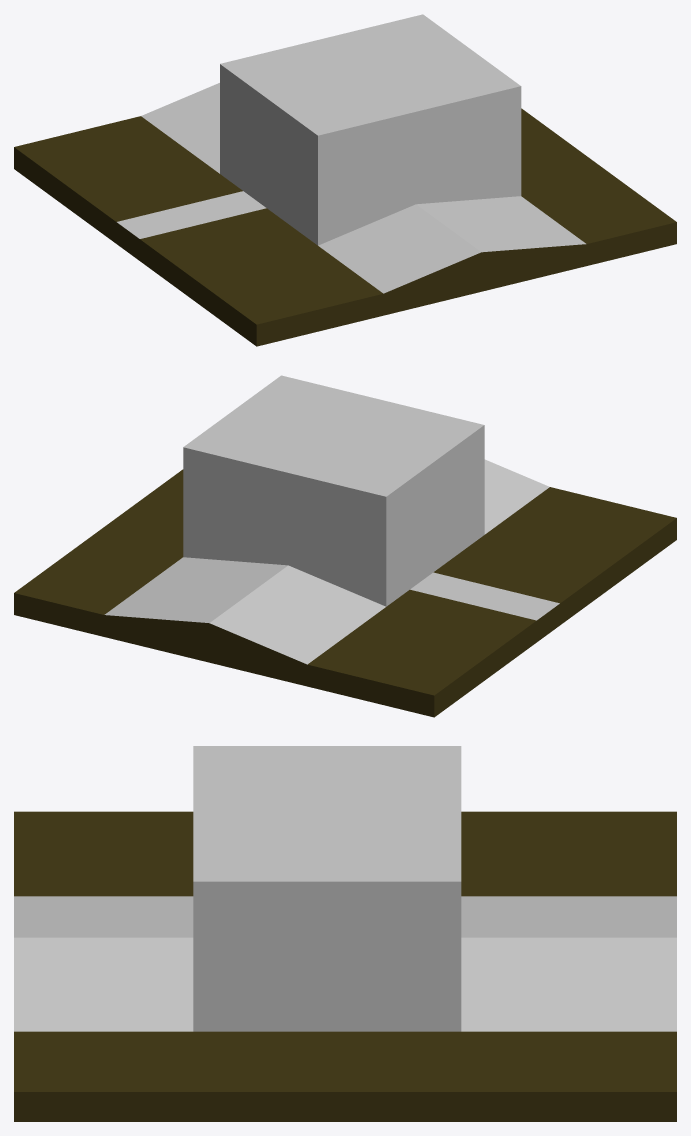
Rendered from flatTrack.obj.
3 renders of one model, top to bottom at view 1: azimuth 30°, elevation 25°; view 2: azimuth 150°, elevation 25°; view 3: azimuth 270°, elevation 25°, orthographic. The views are drawn at different scales.
Visible parts, largest first — view 1: Cube; view 2: Cube; view 3: Cube.
Part boxes in pixels (x1,y1,x2,y2): Cube: (14,14,676,346); Cube: (14,375,676,717); Cube: (14,746,676,1121).
Size of the model in its own units: 400 by 120 by 400.
